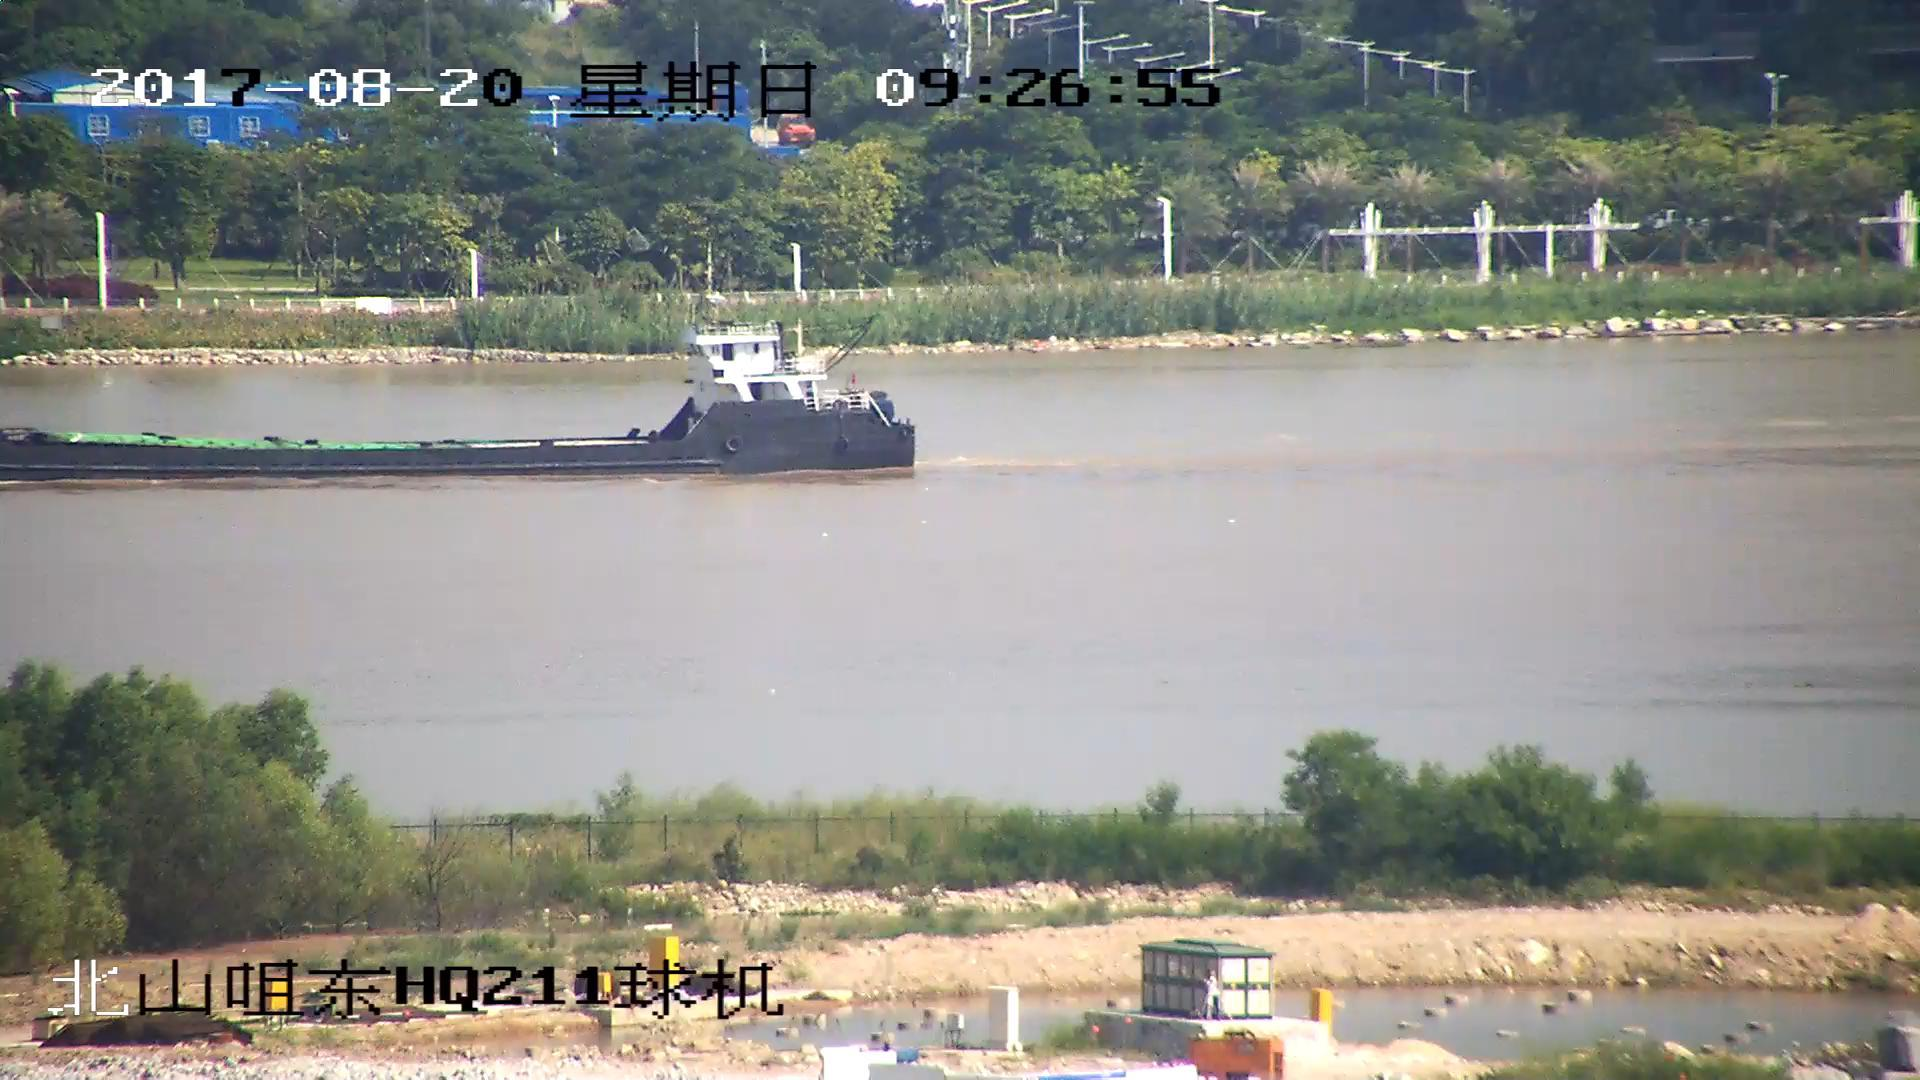Ship: (3, 319, 918, 487)
